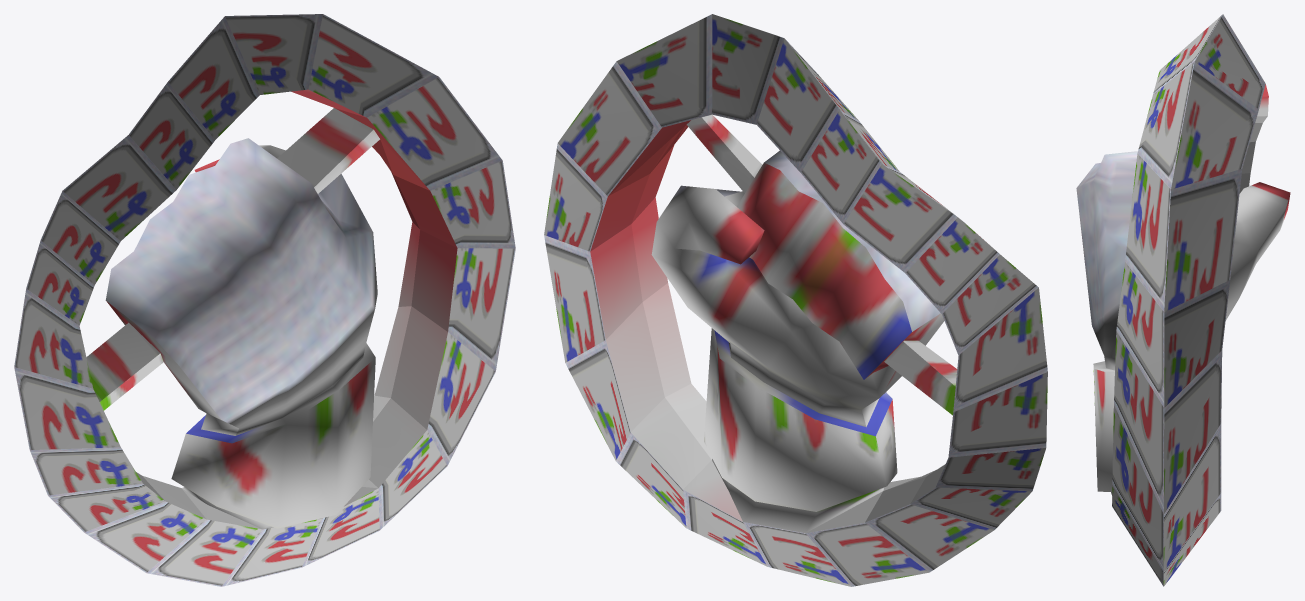
Rendered from delete.ico.obj.
3 renders of one model, left to right at view 1: azimuth 30°, elevation 25°; view 2: azimuth 150°, elevation 25°; view 3: azimuth 270°, elevation 25°, orthographic. The views are drawn at different scales.
Bounding box in the file's own units: 4.61 × 4.83 × 1.77.
